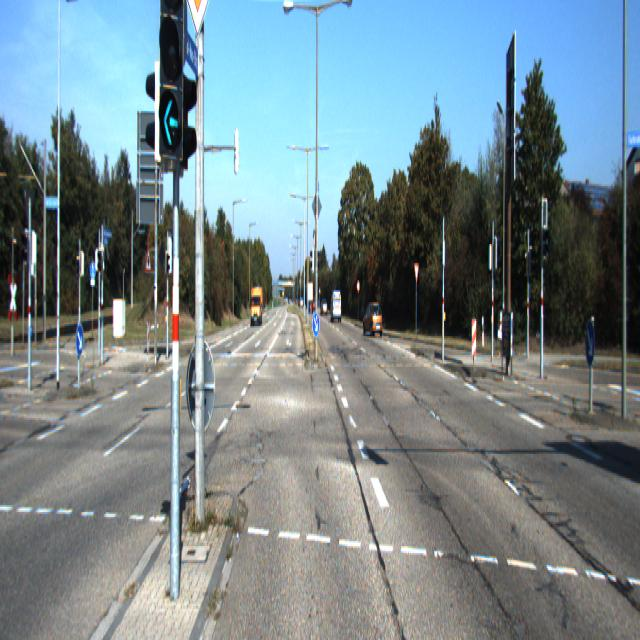Car: (362, 300, 383, 337)
DontCare: (311, 285, 340, 316)
Van: (250, 287, 263, 328)
